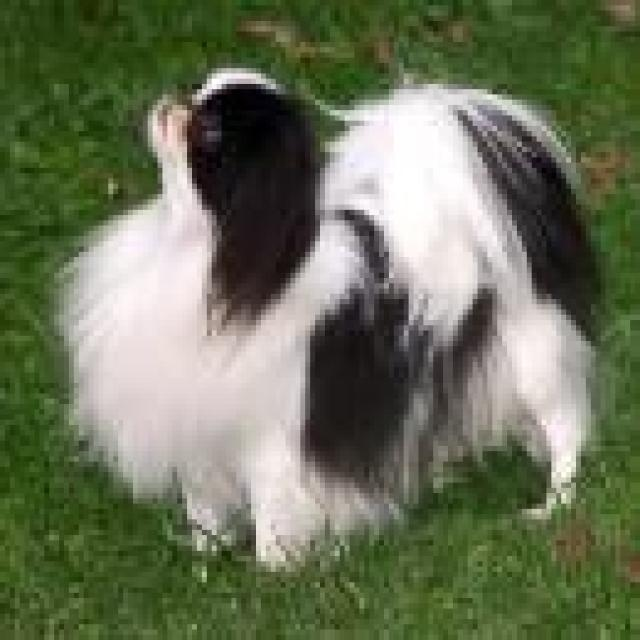husky: (25, 47, 635, 609)
